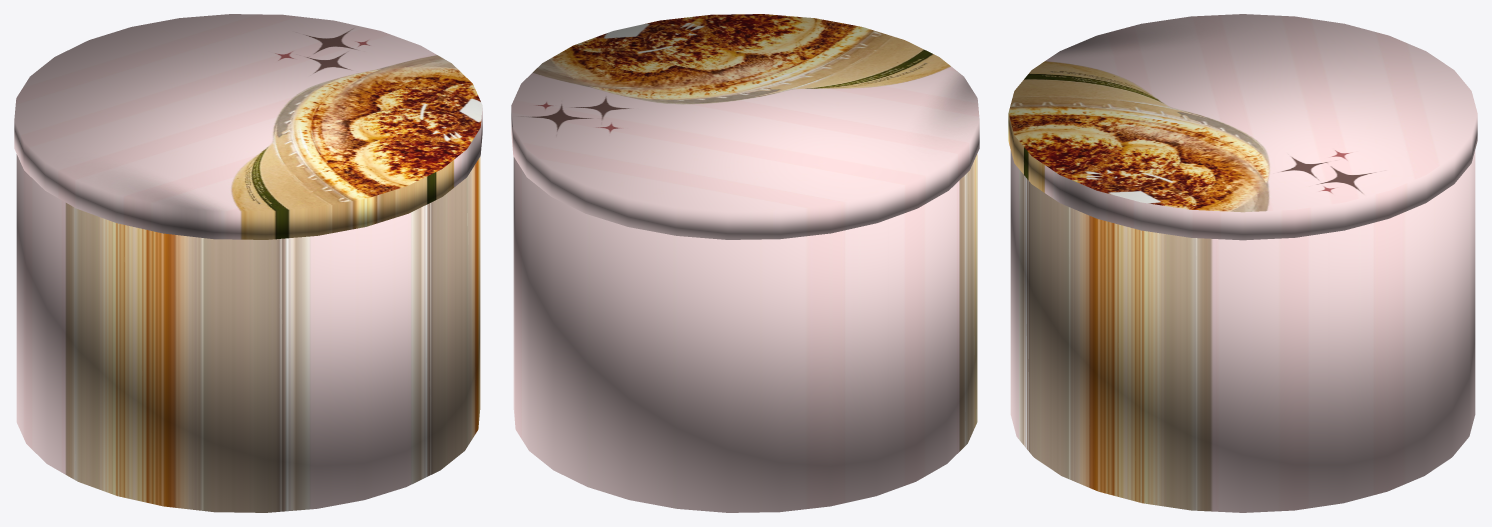
The model's file is prop_tiramisu_cake.glb.
3 views of the same model, side by side, from view 1: azimuth 30°, elevation 25°; view 2: azimuth 150°, elevation 25°; view 3: azimuth 270°, elevation 25° (orthographic).
Parts seen in each view (by area): view 1: prop_tiramisu_cake; view 2: prop_tiramisu_cake; view 3: prop_tiramisu_cake.
Boxes of the visible parts, bbox=[...] form: prop_tiramisu_cake: bbox=[14, 14, 482, 512]; prop_tiramisu_cake: bbox=[511, 14, 979, 512]; prop_tiramisu_cake: bbox=[1008, 14, 1477, 512].
Size of the model in its own units: 0.1212 by 0.086 by 0.1212.
1 material, 1 textured.
